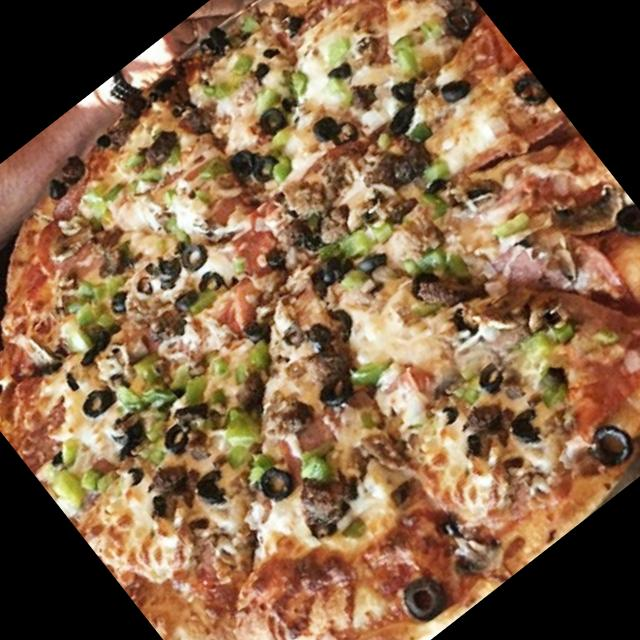black_olives: (392, 566, 455, 630), (582, 417, 640, 477), (309, 367, 365, 422), (104, 414, 158, 467), (68, 322, 122, 372), (431, 0, 482, 48), (310, 248, 358, 295), (252, 461, 298, 507), (380, 96, 426, 141), (466, 354, 513, 398), (74, 383, 120, 427), (397, 262, 442, 306), (504, 402, 546, 446), (156, 414, 200, 456), (174, 234, 217, 276), (192, 464, 234, 507), (243, 148, 284, 190), (438, 68, 478, 108), (609, 198, 640, 245), (222, 144, 260, 182), (255, 101, 291, 138), (194, 264, 229, 300), (308, 109, 342, 143), (359, 242, 394, 274), (154, 250, 184, 282), (171, 284, 200, 312), (459, 430, 486, 458), (112, 280, 138, 308), (388, 77, 413, 103), (330, 56, 355, 80)
mushrooms: (542, 172, 634, 258), (468, 270, 547, 348), (284, 456, 364, 532), (446, 514, 516, 586), (32, 208, 104, 278), (2, 314, 69, 384), (444, 164, 505, 225)
pizza: (0, 0, 640, 640)
